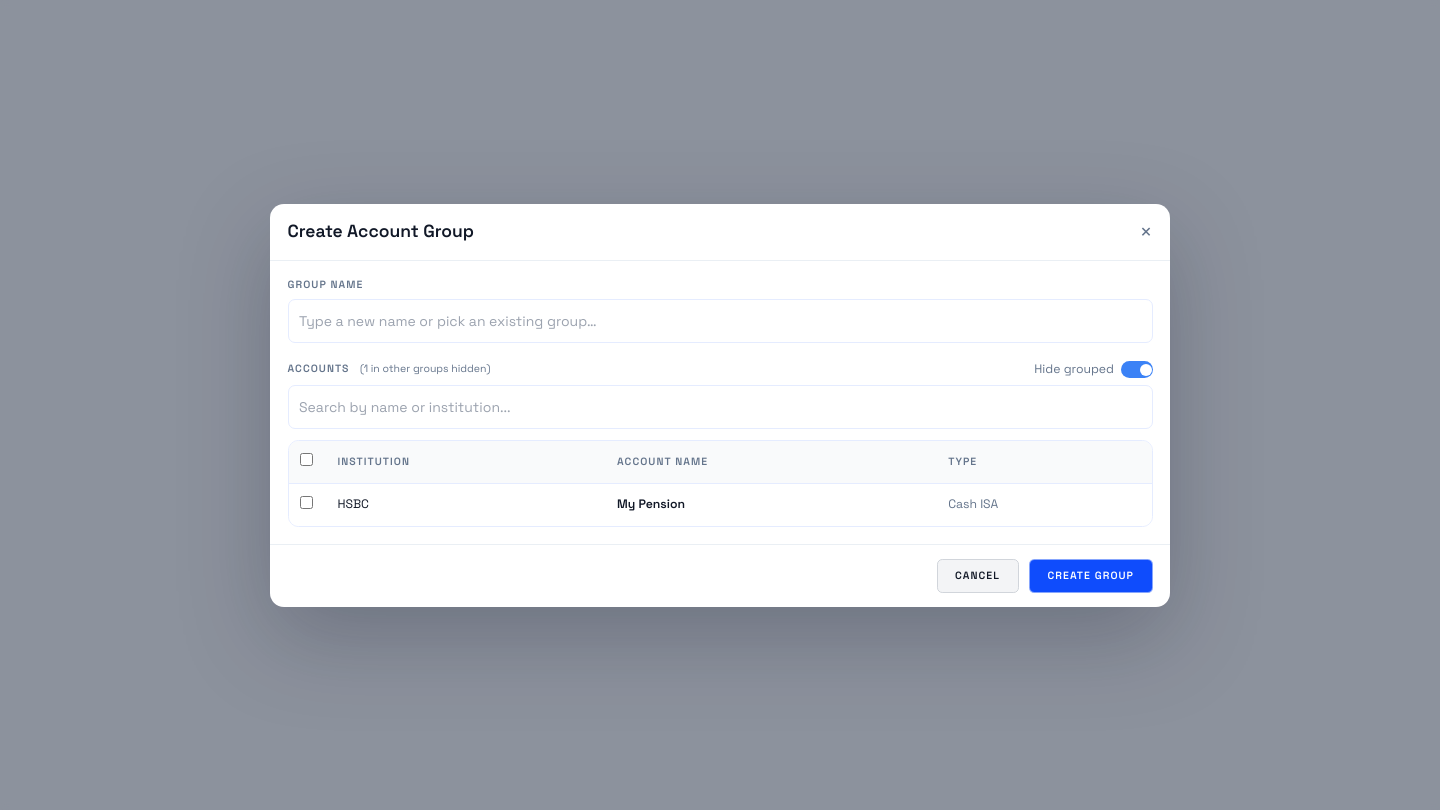
Test: AccountGroupModal › handleSave: shows error when group name is empty
Click the button "Create Group". click: (1091, 576)
box: [1029,559,1152,592]
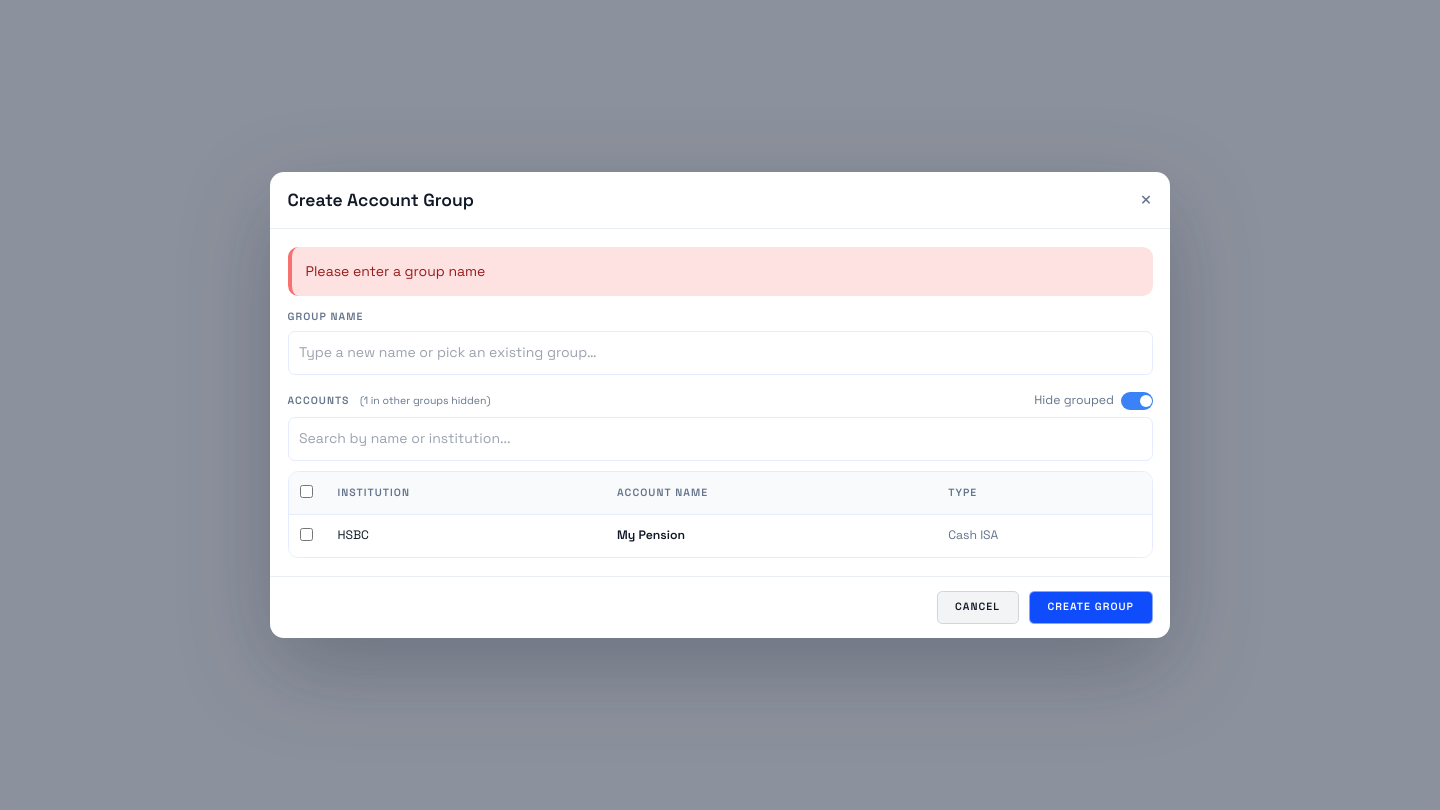
Expected: the text "Please enter a group name" is shown, [306,260,485,282]
